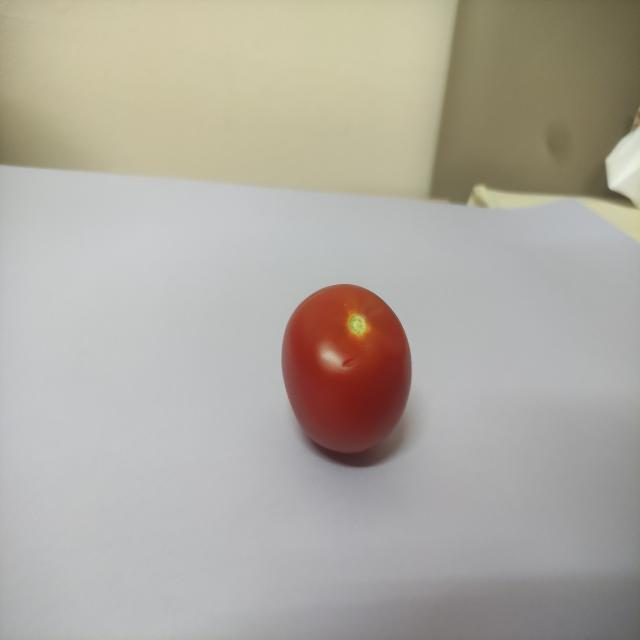kirmizi: (280, 273, 426, 468)
